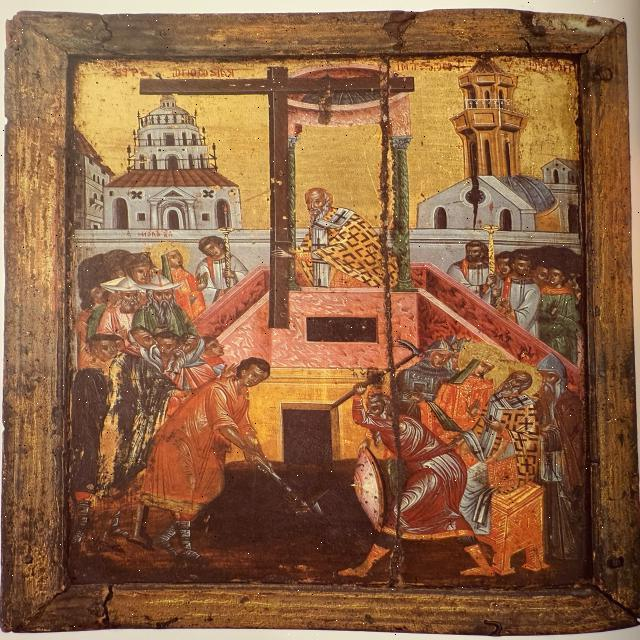aura: (493, 362, 547, 400), (146, 239, 187, 270)
church_father: (459, 356, 549, 528), (274, 177, 398, 292)
